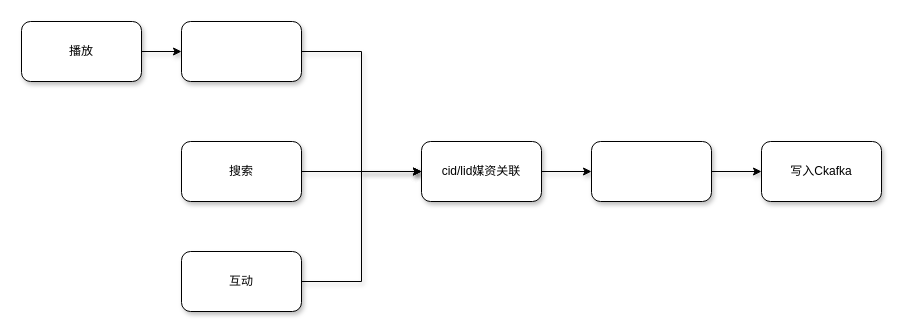
The diagram is 905 pixels wide and 336 high, and some of its shapes have lost their labels. Each missing label, with the centre of its shape:
10分钟窗口聚合: point 652,172
vid媒资关联: point 242,52
